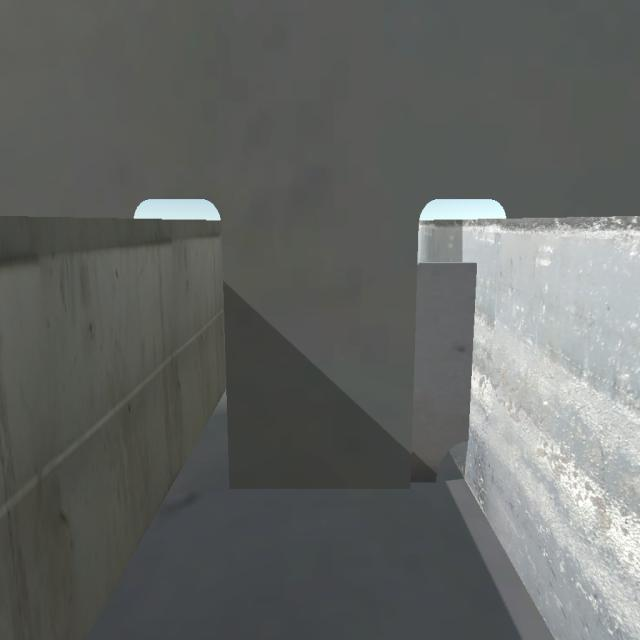fillet_hole: (435, 442, 465, 482)
fillet_yong_jeop_jang: (226, 477, 443, 495)
longi_yong_jeop_jang: (466, 255, 478, 446)
plate_behind: (418, 264, 472, 480)
